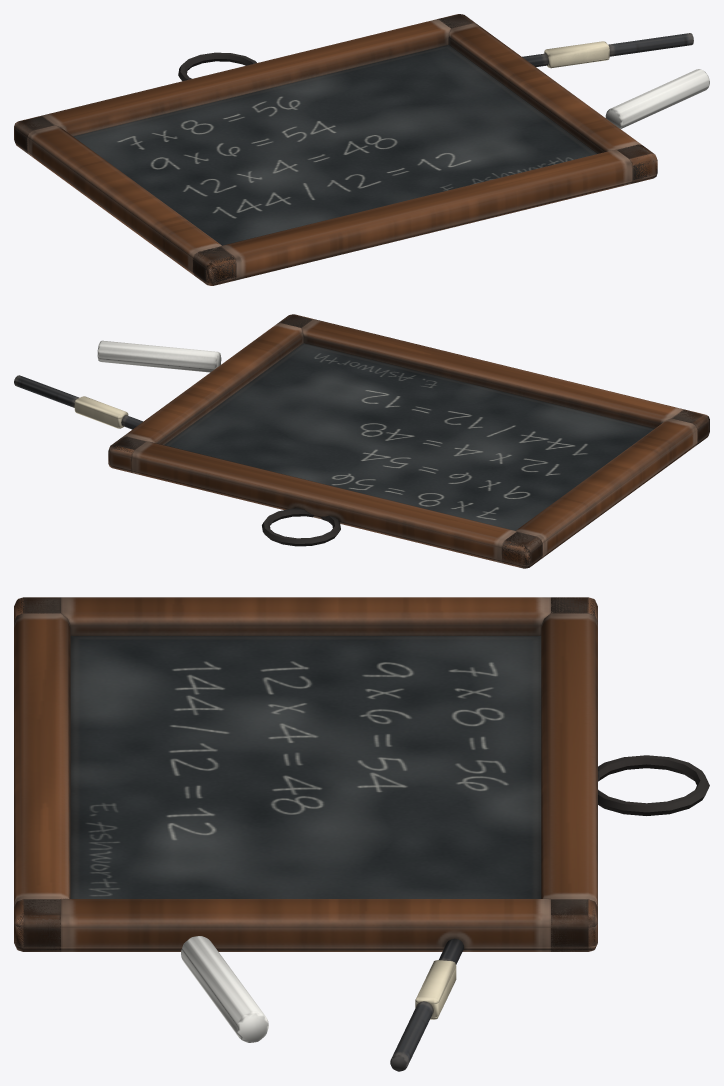
Rendered from WritingSlate.fbx.
The picture shows the model from 3 angles, top to bottom: view 1: azimuth 30°, elevation 25°; view 2: azimuth 150°, elevation 25°; view 3: azimuth 270°, elevation 25°; orthographic projection. The views are drawn at different scales.
Parts seen in each view (by area): view 1: WritingSlate; view 2: WritingSlate; view 3: WritingSlate.
Part boxes in pixels (x1,y1,x2,y2): WritingSlate: (14, 14, 709, 285); WritingSlate: (14, 314, 709, 568); WritingSlate: (14, 597, 709, 1071).
Bounding box in the file's own units: 129 × 5.3 × 85.8.
